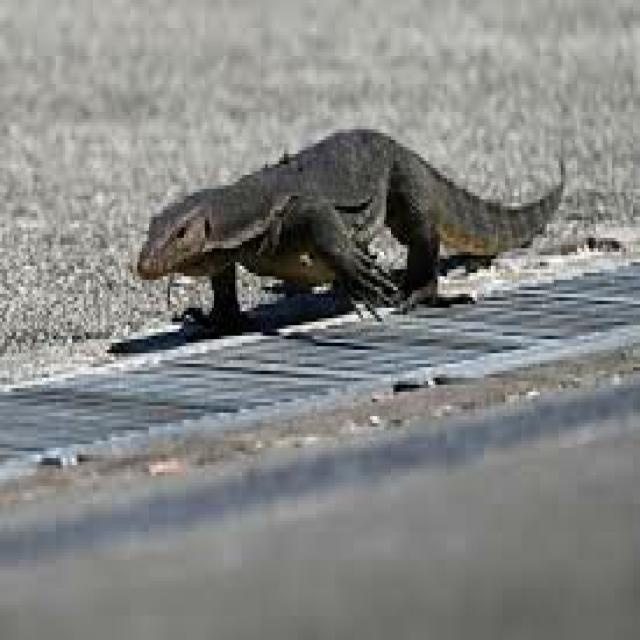lizard: (137, 129, 561, 332)
